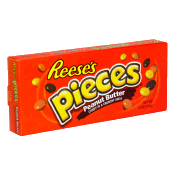grozi_31: (8, 40, 166, 135)
